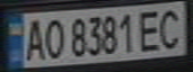1: (115, 10, 139, 54)
3: (84, 12, 106, 56)
8: (66, 14, 87, 57), (103, 11, 121, 55)
A: (21, 15, 48, 62)
C: (154, 4, 187, 50)
E: (136, 7, 166, 52)
O: (42, 15, 66, 61)
